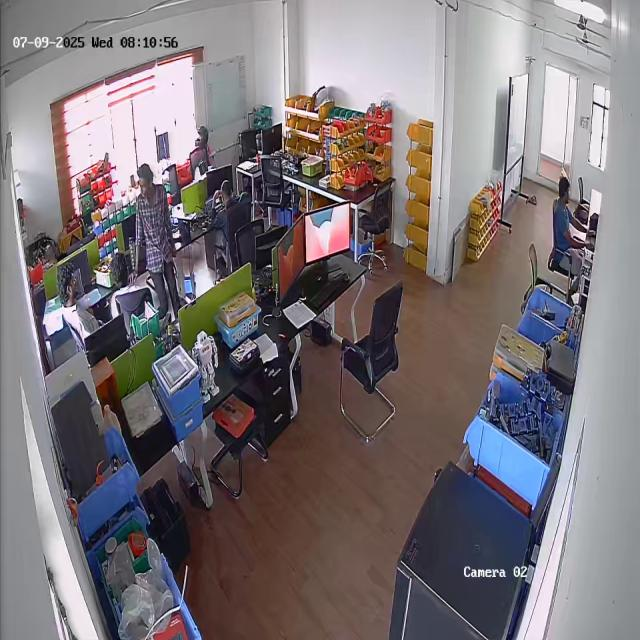person: (132, 164, 179, 320), (55, 264, 104, 345), (552, 176, 585, 289), (210, 180, 240, 241)
